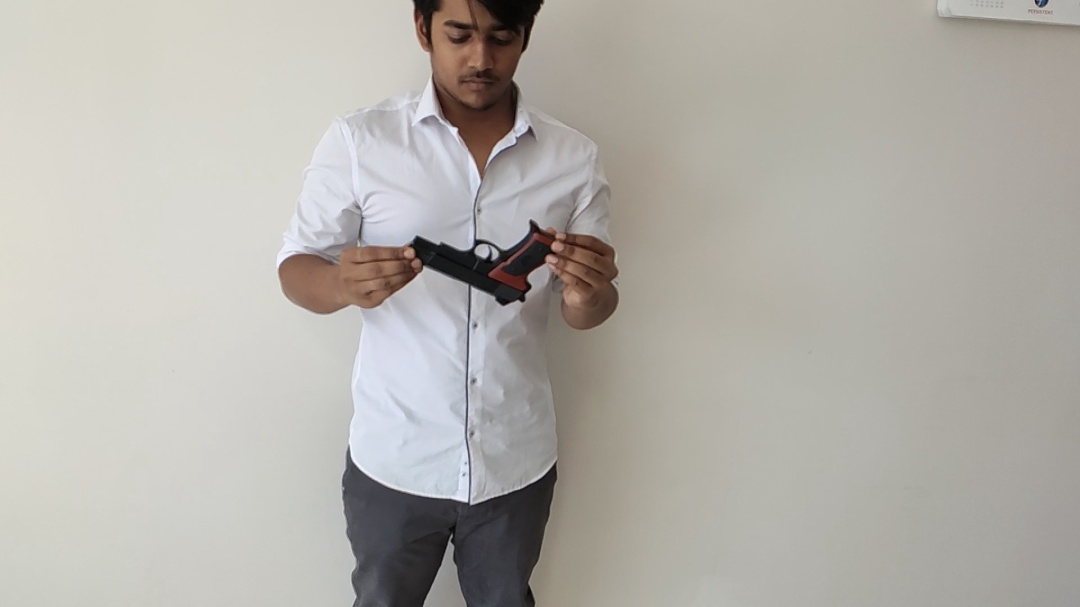gun: (125, 43, 941, 571)
